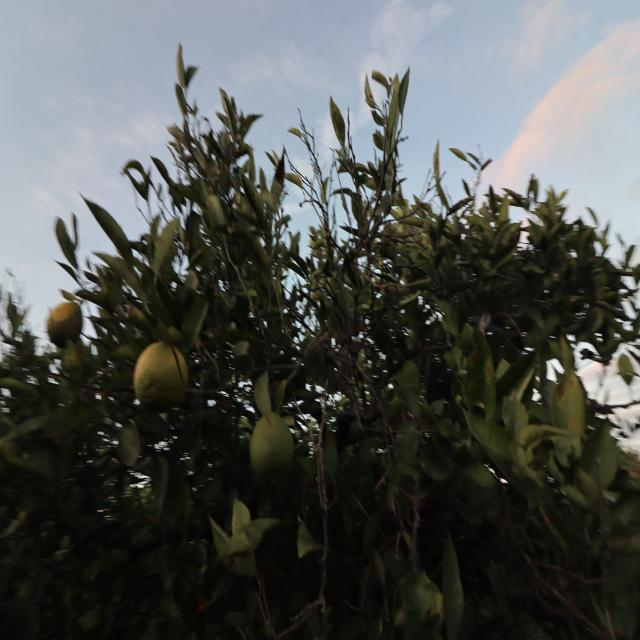Jeruk Belum Matang: (133, 340, 190, 412), (250, 413, 294, 483), (48, 301, 83, 347)
